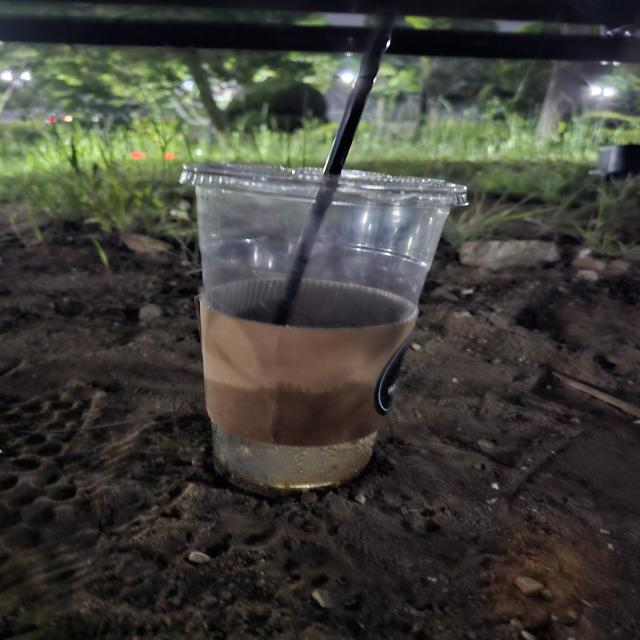cup: (168, 147, 474, 500)
